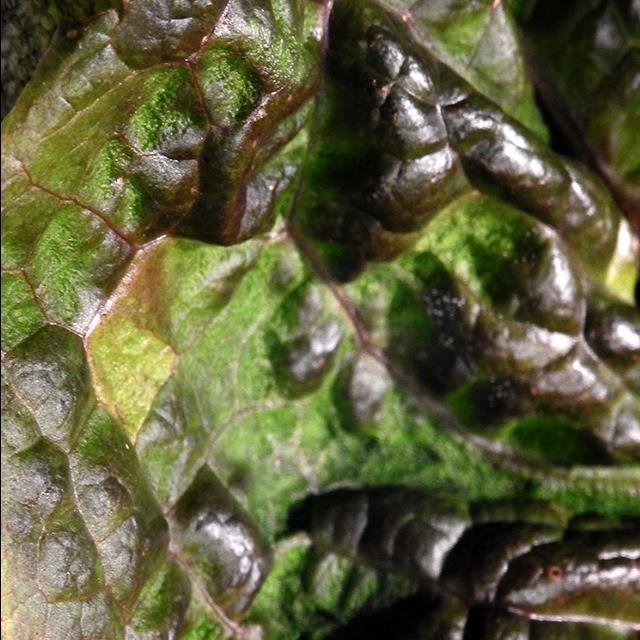Downy_mildew_on_lettuce: (309, 16, 615, 437)
